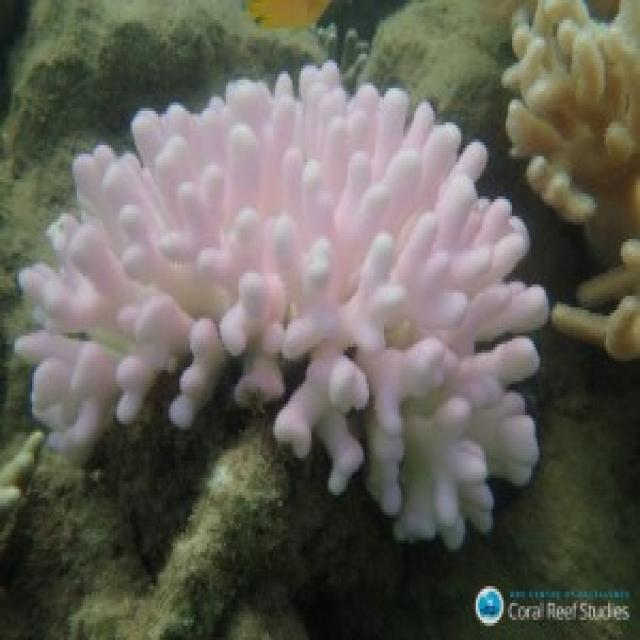Bleached: (16, 61, 547, 547)
Healthy: (502, 1, 639, 359)
